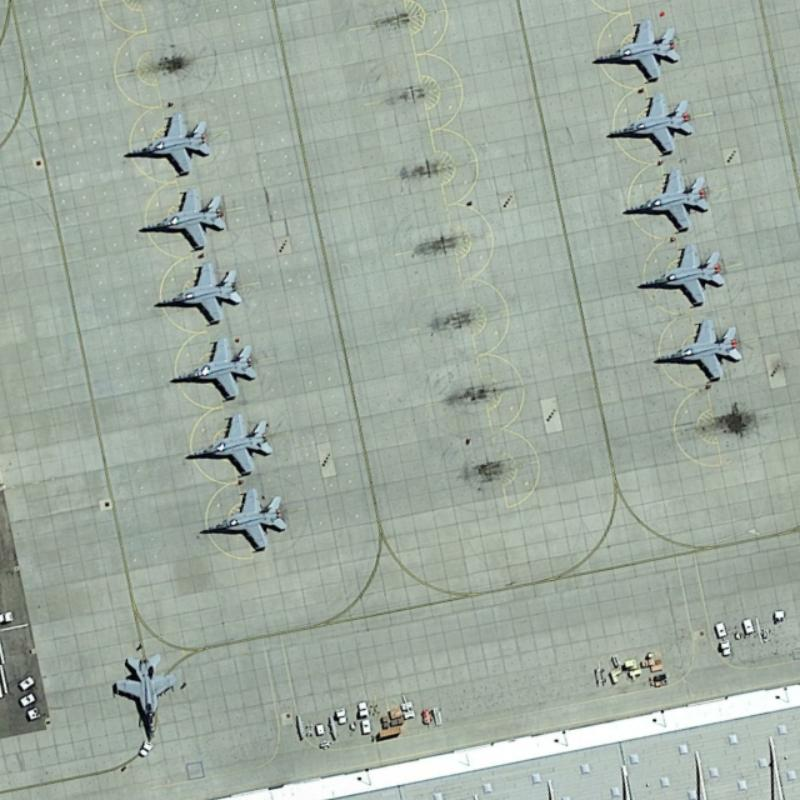A16: (159, 332, 259, 403), (145, 257, 246, 327), (194, 482, 291, 554), (129, 183, 228, 253), (647, 315, 748, 383), (178, 409, 277, 478), (111, 648, 180, 747), (598, 89, 697, 157), (587, 15, 683, 85), (632, 240, 728, 310), (119, 108, 212, 178), (617, 167, 714, 233)
